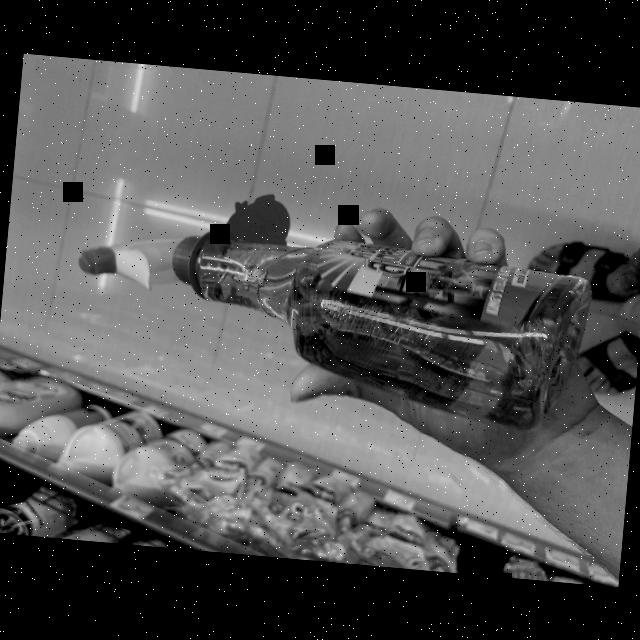chemical_plastic_bottle: (53, 200, 599, 436)
